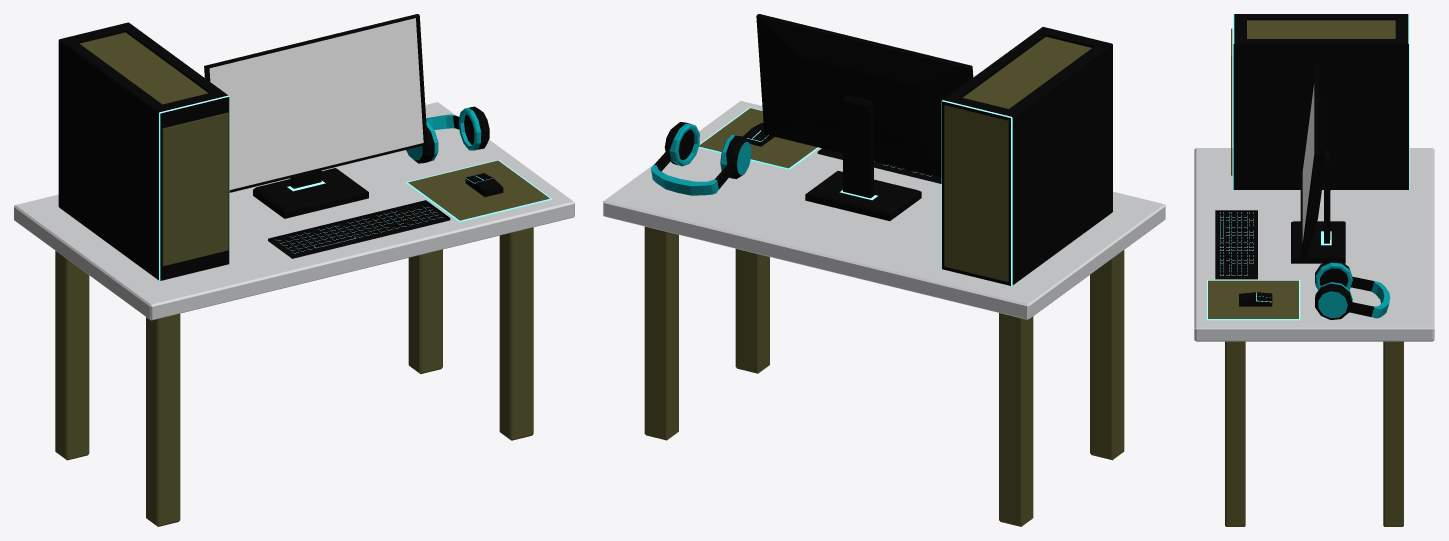
The picture shows the model from 3 angles, left to right: view 1: azimuth 30°, elevation 25°; view 2: azimuth 150°, elevation 25°; view 3: azimuth 270°, elevation 25°; orthographic projection. The views are drawn at different scales.
Visible parts, largest first — view 1: table, cpu, monitor, Plane, keyboard, headset; view 2: table, cpu, monitor, headset, Plane, keyboard; view 3: table, cpu, monitor, Plane, keyboard, headset, mouse.
Part boxes in pixels (x1,y1,x2,y2): table: [14, 102, 574, 526]; cpu: [58, 22, 229, 280]; monitor: [204, 14, 427, 218]; Plane: [406, 159, 552, 222]; keyboard: [268, 200, 450, 258]; headset: [406, 106, 489, 163]; table: [603, 101, 1165, 526]; cpu: [941, 26, 1112, 285]; monitor: [756, 14, 973, 220]; headset: [651, 122, 751, 195]; Plane: [698, 107, 819, 169]; keyboard: [817, 148, 941, 183]; table: [1194, 148, 1434, 526]; cpu: [1231, 14, 1409, 189]; monitor: [1291, 63, 1345, 263]; Plane: [1207, 280, 1300, 320]; keyboard: [1215, 210, 1257, 279]; headset: [1315, 260, 1390, 319]; mouse: [1239, 292, 1272, 306].
Bounding box in the file's own units: 528 × 486 × 297.
